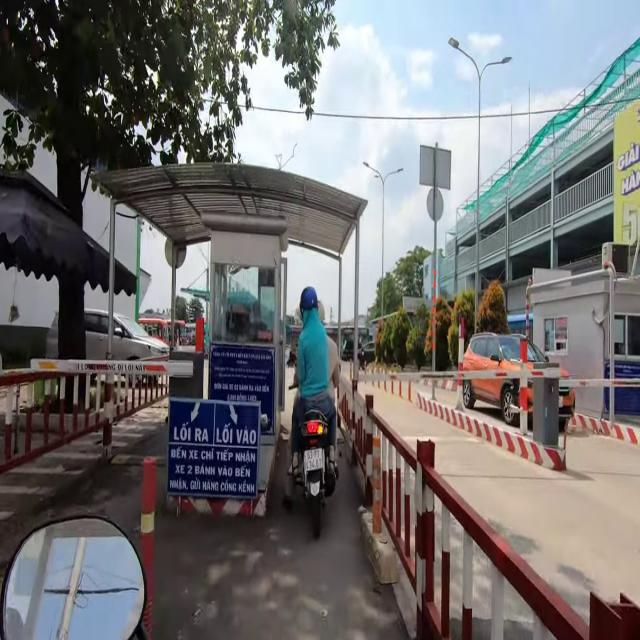bien_trang: (301, 445, 326, 471)
